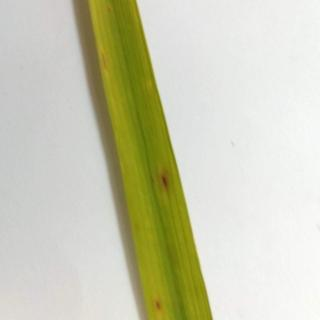bercak-Cokelat: (156, 170, 176, 194)
